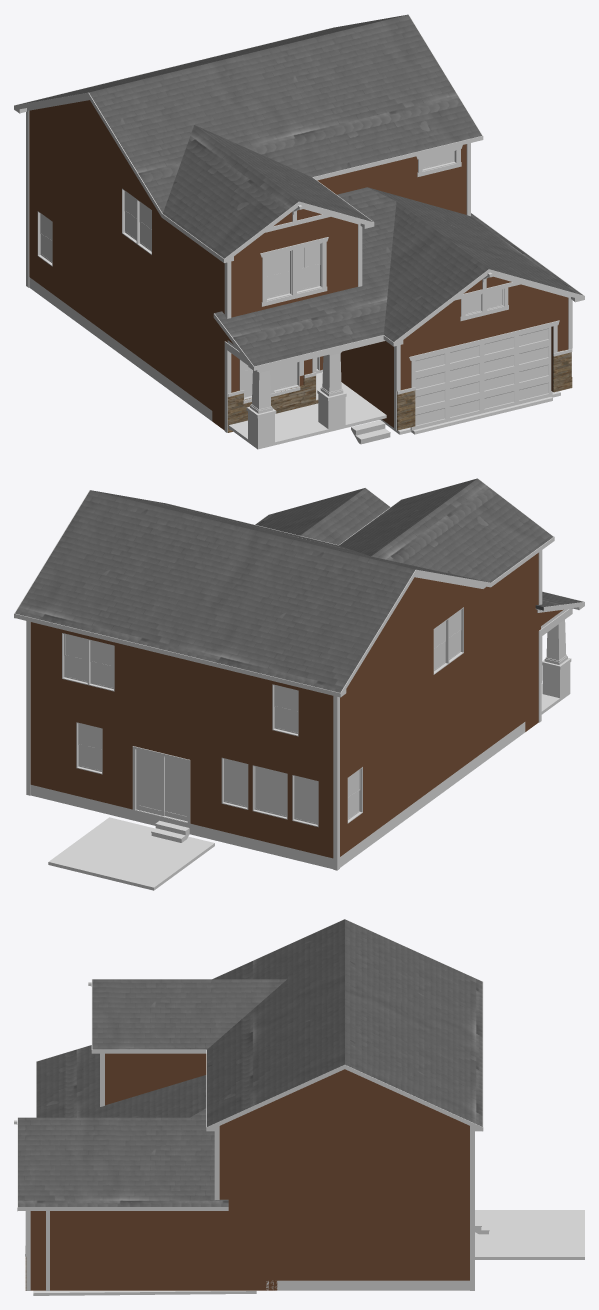
Rendered from 235-2214-dm-craftsman.glb.
3 views of the same model, one above another, from view 1: azimuth 30°, elevation 25°; view 2: azimuth 150°, elevation 25°; view 3: azimuth 270°, elevation 25° (orthographic). The views are drawn at different scales.
Parts seen in each view (by area): view 1: Basic Roof Wood Rafter 4" - Asphalt Shingle - Insulated_b1ce, Basic Roof Wood Rafter 4" - Asphalt Shingle - Insulated_af84, Basic Wall BSB Exterior - Stud_5.5" - Sheathing_0.5" - _2ea2, Basic Wall BSB Exterior - Stud_5.5" - Sheathing_0.5" - _fd29, Basic Roof Wood Rafter 4" - Asphalt Shingle - Insulated_899b, Craftsman - BSB Exterior - Overhead Garage Door - Clopa_2091, Basic Wall BSB Exterior - Stud_5.5" - Sheathing_0.5" - _f458, Basic Wall BSB Exterior - Stud_3.5" - Sheathing_0.5" - _0c10, Basic Wall BSB Exterior - Stud_1.5" - Sheathing_0.5" - _4862, Fascia Fascia-Flat 1x6 w/12" Soffit Bd [4269876], Trim - Corner Boards Trim - Corner Boards [4267858], Floor BSB Concrete Slab - 4" - Slope Option [4164988] (+24 smaller); view 2: Basic Roof Wood Rafter 4" - Asphalt Shingle - Insulated_b1ce, Basic Wall BSB Exterior - Stud_5.5" - Sheathing_0.5" - _0a3f, Basic Wall BSB Exterior - Stud_5.5" - Sheathing_0.5" - _6c98, Basic Wall BSB Exterior - Stud_5.5" - Sheathing_0.5" - _2ea2, Basic Wall BSB Exterior - Stud_5.5" - Sheathing_0.5" - _fd29, Basic Roof Wood Rafter 4" - Asphalt Shingle - Insulated_899b, Floor BSB Concrete Slab - 4" - Slope Option [4119935], Basic Roof Wood Rafter 4" - Asphalt Shingle - Insulated_af84, BSB Exterior - SGD XO - 1-Lite 6068 [4116363], Basic Wall BSB Exterior - Stud_1.5" - Sheathing_0.5" - _4862, Fascia Fascia-Flat 1x6 w/12" Soffit Bd [4269876], Basic Wall BSB Exterior - Lap Siding_6" [4672811] (+17 smaller); view 3: Basic Roof Wood Rafter 4" - Asphalt Shingle - Insulated_b1ce, Basic Roof Wood Rafter 4" - Asphalt Shingle - Insulated_af84, Basic Wall BSB Exterior - Stud_5.5" - Sheathing_0.5" - _1b7e, Basic Wall BSB Exterior - Stud_5.5" - Sheathing_0.5" - _2c64, Basic Wall BSB Exterior - Stud_3.5" - Sheathing_0.5" - _872d, Basic Roof Wood Rafter 4" - Asphalt Shingle - Insulated_899b, Basic Wall BSB Exterior - Stud_1.5" - Sheathing_0.5" - _67d5, Floor BSB Concrete Slab - 4" - Slope Option [4119935], Basic Wall BSB Exterior - Stud_3.5" - Sheathing_0.5" - _c7f1, Basic Wall BSB Exterior - Stud_5.5" - Sheathing_0.5" - _89c6, Fascia Fascia-Flat 1x6 w/12" Soffit Bd [4269876], Trim - Corner Boards Trim - Corner Boards [4267858] (+7 smaller).
Part boxes in pixels (box(x1,y1,x2,y2)): Basic Roof Wood Rafter 4" - Asphalt Shingle - Insulated_b1ce: box(16, 14, 481, 213); Basic Roof Wood Rafter 4" - Asphalt Shingle - Insulated_af84: box(214, 187, 582, 366); Basic Wall BSB Exterior - Stud_5.5" - Sheathing_0.5" - _2ea2: box(30, 195, 212, 410); Basic Wall BSB Exterior - Stud_5.5" - Sheathing_0.5" - _fd29: box(29, 111, 212, 328); Basic Roof Wood Rafter 4" - Asphalt Shingle - Insulated_899b: box(163, 125, 372, 258); Craftsman - BSB Exterior - Overhead Garage Door - Clopa_2091: box(410, 327, 552, 430); Basic Wall BSB Exterior - Stud_5.5" - Sheathing_0.5" - _f458: box(232, 224, 357, 316); Basic Wall BSB Exterior - Stud_3.5" - Sheathing_0.5" - _0c10: box(408, 297, 561, 391); Basic Wall BSB Exterior - Stud_1.5" - Sheathing_0.5" - _4862: box(30, 100, 149, 198); Fascia Fascia-Flat 1x6 w/12" Soffit Bd [4269876]: box(14, 14, 482, 262); Trim - Corner Boards Trim - Corner Boards [4267858]: box(26, 110, 572, 432); Floor BSB Concrete Slab - 4" - Slope Option [4164988]: box(228, 372, 386, 449); Basic Roof Wood Rafter 4" - Asphalt Shingle - Insulated_b1ce: box(15, 490, 488, 692); Basic Wall BSB Exterior - Stud_5.5" - Sheathing_0.5" - _0a3f: box(30, 622, 333, 774); Basic Wall BSB Exterior - Stud_5.5" - Sheathing_0.5" - _6c98: box(30, 701, 333, 858); Basic Wall BSB Exterior - Stud_5.5" - Sheathing_0.5" - _2ea2: box(340, 638, 525, 856); Basic Wall BSB Exterior - Stud_5.5" - Sheathing_0.5" - _fd29: box(340, 562, 525, 772); Basic Roof Wood Rafter 4" - Asphalt Shingle - Insulated_899b: box(339, 478, 553, 582); Floor BSB Concrete Slab - 4" - Slope Option [4119935]: box(48, 817, 214, 890); Basic Roof Wood Rafter 4" - Asphalt Shingle - Insulated_af84: box(255, 488, 583, 610); BSB Exterior - SGD XO - 1-Lite 6068 [4116363]: box(132, 746, 190, 823); Basic Wall BSB Exterior - Stud_1.5" - Sheathing_0.5" - _4862: box(353, 577, 475, 677); Fascia Fascia-Flat 1x6 w/12" Soffit Bd [4269876]: box(14, 478, 554, 697); Basic Wall BSB Exterior - Lap Siding_6" [4672811]: box(30, 785, 333, 868); Basic Roof Wood Rafter 4" - Asphalt Shingle - Insulated_b1ce: box(207, 919, 482, 1126); Basic Roof Wood Rafter 4" - Asphalt Shingle - Insulated_af84: box(18, 1045, 228, 1206); Basic Wall BSB Exterior - Stud_5.5" - Sheathing_0.5" - _1b7e: box(232, 1125, 469, 1203); Basic Wall BSB Exterior - Stud_5.5" - Sheathing_0.5" - _2c64: box(277, 1204, 468, 1280); Basic Wall BSB Exterior - Stud_3.5" - Sheathing_0.5" - _872d: box(111, 1204, 258, 1290); Basic Roof Wood Rafter 4" - Asphalt Shingle - Insulated_899b: box(92, 979, 286, 1049); Basic Wall BSB Exterior - Stud_1.5" - Sheathing_0.5" - _67d5: box(221, 1069, 468, 1125); Floor BSB Concrete Slab - 4" - Slope Option [4119935]: box(475, 1210, 584, 1259); Basic Wall BSB Exterior - Stud_3.5" - Sheathing_0.5" - _c7f1: box(50, 1211, 110, 1290); Basic Wall BSB Exterior - Stud_5.5" - Sheathing_0.5" - _89c6: box(106, 1053, 206, 1104); Fascia Fascia-Flat 1x6 w/12" Soffit Bd [4269876]: box(91, 919, 483, 1131); Trim - Corner Boards Trim - Corner Boards [4267858]: box(25, 1053, 474, 1290).
Bounding box in the file's own units: 11.33 × 9.46 × 18.72.
Materials: 3 (2 with a texture image).
